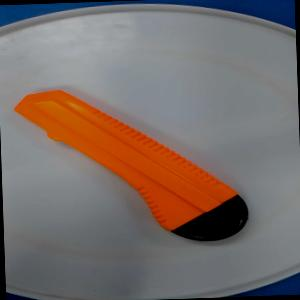estilete: (9, 82, 252, 250)
